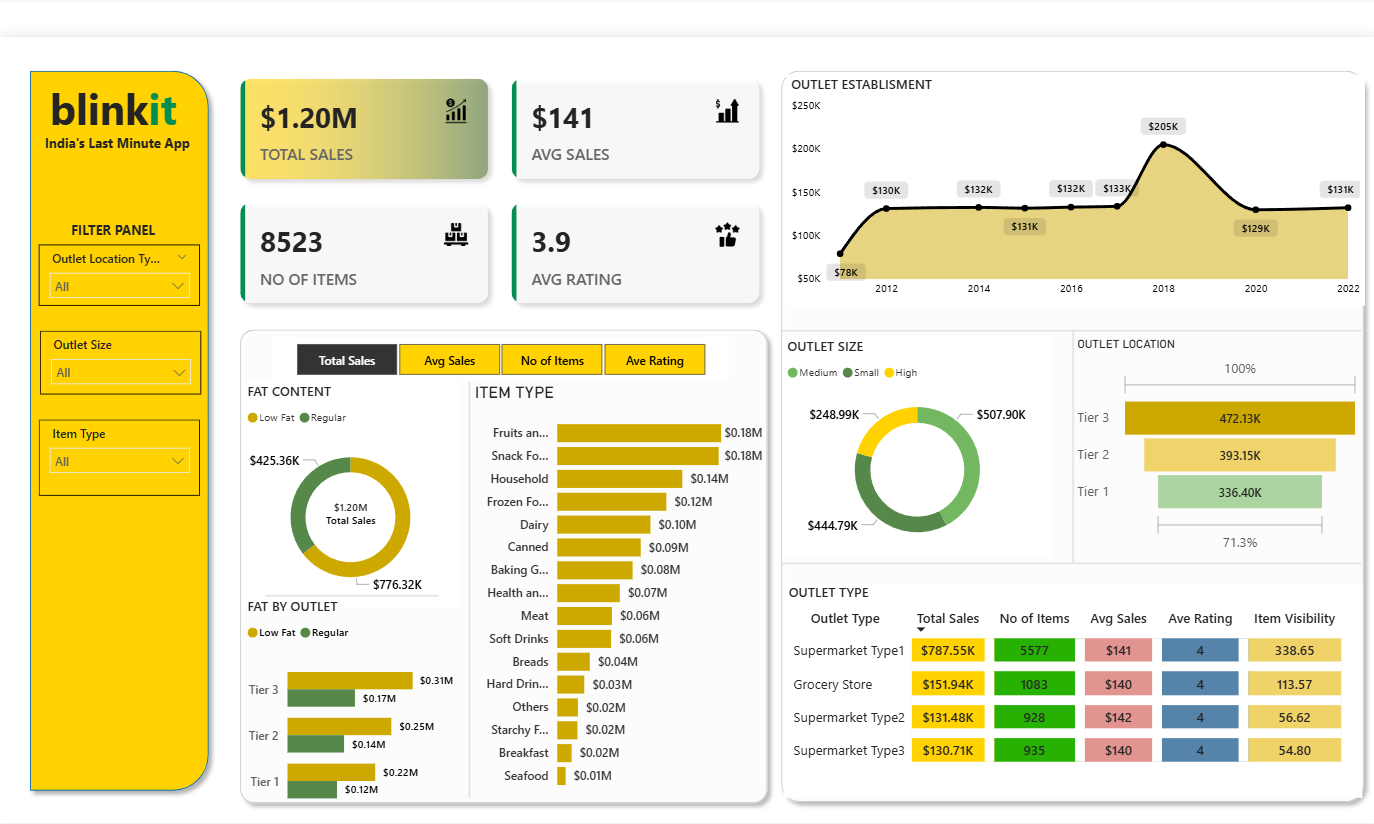

What the dashboard file says about the page in this screenshot:
{"tool":"powerbi","page":{"name":"Page 1","canvas":[1400,800],"ordinal":0},"visuals":[{"type":"shape","box":[21.6,25.4,199.7,750.4],"z":0},{"type":"textbox","box":[512.5,670.2,200.9,104.3],"z":1000},{"type":"textbox","box":[45.8,38.2,164.1,73.8],"z":2000},{"type":"textbox","box":[40.7,94.1,164.1,35.6],"z":3000},{"type":"cardVisual","fields":{"Data":["BlinkIT Grocery Data.Total Sales","BlinkIT Grocery Data.Avg Sales","BlinkIT Grocery Data.No of Items","BlinkIT Grocery Data.Ave Rating"]},"box":[227.7,25.4,562.1,263.3],"z":4000},{"type":"shape","box":[235.3,288.7,554.5,499.8],"z":5000},{"type":"donutChart","title":"FAT CONTENT","fields":{"Y":["BlinkIT Grocery Data.Total Sales"],"Category":["BlinkIT Grocery Data.Item Fat Content"]},"box":[246.7,351,220,230.2],"z":6000},{"type":"slicer","fields":{"Values":["Parameter.Parameter"]},"box":[276,305.2,465.5,45.8],"z":7000},{"type":"cardVisual","fields":{"Data":["BlinkIT Grocery Data.Total Sales"]},"box":[295.1,450.2,124.6,68.7],"z":8000},{"type":"clusteredBarChart","title":"FAT BY OUTLET","fields":{"Y":["BlinkIT Grocery Data.Total Sales"],"Category":["BlinkIT Grocery Data.Outlet Location Type"],"Series":["BlinkIT Grocery Data.Item Fat Content"]},"box":[246.7,569.8,220,230.2],"z":9000},{"type":"shape","box":[269.6,555.8,176.8,25.4],"z":10000},{"type":"shape","box":[466.8,351,21.6,423.5],"z":11000},{"type":"barChart","title":"ITEM TYPE","fields":{"Y":["BlinkIT Grocery Data.Total Sales"],"Category":["BlinkIT Grocery Data.Item Type"]},"box":[478.2,351,302.7,424.8],"z":12000},{"type":"shape","box":[786,25.4,610.5,761.8],"z":13000},{"type":"lineChart","title":"OUTLET ESTABLISMENT","fields":{"Category":["BlinkIT Grocery Data.Outlet Establishment Year"],"Y":["BlinkIT Grocery Data.Total Sales"]},"box":[800,38.2,588.8,235.3],"z":14000},{"type":"shape","box":[796.2,286.2,588.8,25.4],"z":15000},{"type":"donutChart","title":"OUTLET SIZE","fields":{"Y":["BlinkIT Grocery Data.Total Sales"],"Category":["BlinkIT Grocery Data.Outlet Size","BlinkIT Grocery Data.Item Fat Content"]},"box":[796.2,305.2,274.7,225.1],"z":16000},{"type":"shape","box":[1075.9,298.9,31.8,236.6],"z":17000},{"type":"funnel","title":"OUTLET LOCATION","fields":{"Category":["BlinkIT Grocery Data.Outlet Location Type"],"Y":["Sum(BlinkIT Grocery Data.Sales)"]},"box":[1091.2,305.2,297.6,225.1],"z":18000},{"type":"shape","box":[796.2,531.6,588.8,7.6],"z":19000},{"type":"pivotTable","title":"OUTLET TYPE","fields":{"Rows":["BlinkIT Grocery Data.Outlet Type"],"Values":["BlinkIT Grocery Data.Total Sales","BlinkIT Grocery Data.No of Items","BlinkIT Grocery Data.Avg Sales","BlinkIT Grocery Data.Ave Rating","Sum(BlinkIT Grocery Data.Item Visibility)"]},"box":[797.4,555.8,588.8,218.8],"z":20000},{"type":"slicer","fields":{"Values":["BlinkIT Grocery Data.Outlet Location Type"]},"box":[39.4,211.1,164.1,62.3],"z":21000},{"type":"slicer","fields":{"Values":["BlinkIT Grocery Data.Outlet Size"]},"box":[40.7,298.9,164.1,64.9],"z":22000},{"type":"slicer","fields":{"Values":["BlinkIT Grocery Data.Item Type"]},"box":[39.4,389.2,164.1,77.6],"z":23000},{"type":"textbox","box":[67.4,181.9,109.4,29.3],"z":24000}]}

Visuals, with their boxes on the page's 1400x800 design canvas (x1, y1, x2, y2). These are canvas units, not pixel positions in the 1374x824 screenshot, which may show the page scaled, cropped or inside an application window:
shape: <region>22, 25, 221, 776</region>
textbox: <region>512, 670, 713, 774</region>
textbox: <region>46, 38, 210, 112</region>
textbox: <region>41, 94, 205, 130</region>
cardVisual - BlinkIT Grocery Data.Total Sales x BlinkIT Grocery Data.Avg Sales: <region>228, 25, 790, 289</region>
shape: <region>235, 289, 790, 788</region>
"FAT CONTENT" donutChart: <region>247, 351, 467, 581</region>
slicer - Parameter.Parameter: <region>276, 305, 742, 351</region>
cardVisual - BlinkIT Grocery Data.Total Sales: <region>295, 450, 420, 519</region>
"FAT BY OUTLET" clusteredBarChart: <region>247, 570, 467, 800</region>
shape: <region>270, 556, 446, 581</region>
shape: <region>467, 351, 488, 774</region>
"ITEM TYPE" barChart: <region>478, 351, 781, 776</region>
shape: <region>786, 25, 1396, 787</region>
"OUTLET ESTABLISMENT" lineChart: <region>800, 38, 1389, 274</region>
shape: <region>796, 286, 1385, 312</region>
"OUTLET SIZE" donutChart: <region>796, 305, 1071, 530</region>
shape: <region>1076, 299, 1108, 536</region>
"OUTLET LOCATION" funnel: <region>1091, 305, 1389, 530</region>
shape: <region>796, 532, 1385, 539</region>
"OUTLET TYPE" pivotTable: <region>797, 556, 1386, 775</region>
slicer - BlinkIT Grocery Data.Outlet Location Type: <region>39, 211, 204, 273</region>
slicer - BlinkIT Grocery Data.Outlet Size: <region>41, 299, 205, 364</region>
slicer - BlinkIT Grocery Data.Item Type: <region>39, 389, 204, 467</region>
textbox: <region>67, 182, 177, 211</region>
